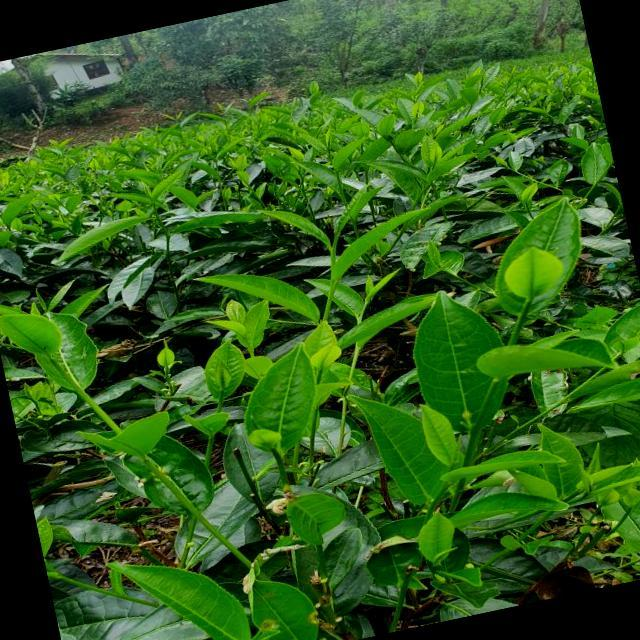Stem: (331, 248, 336, 257), (358, 320, 361, 329)
